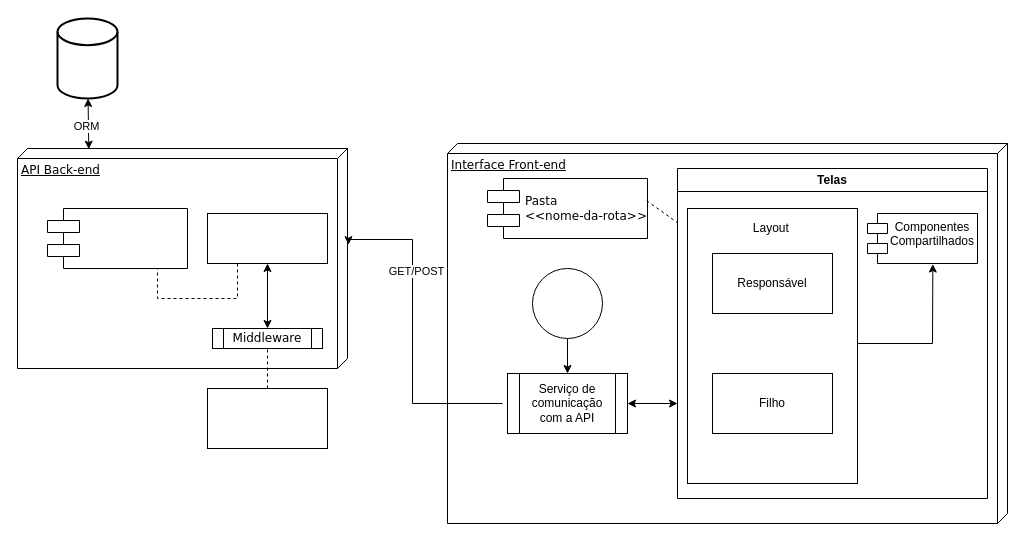
The diagram is 1025 pixels wide and 541 high, and some of its shapes have lost their labels. Here are the shapes that lost their labels. From the top down, the centre of each, then its label:
(x=87, y=58): Banco de Dados
(x=117, y=238): Pasta «nome-da-rota»
(x=267, y=238): /route.ts
(x=567, y=303): Token de autenticação
(x=267, y=418): Lida com autenticação dos usuários
